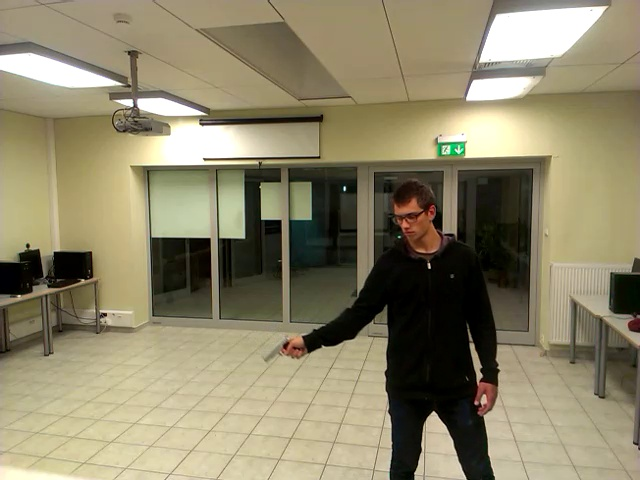gun: (250, 324, 317, 385)
